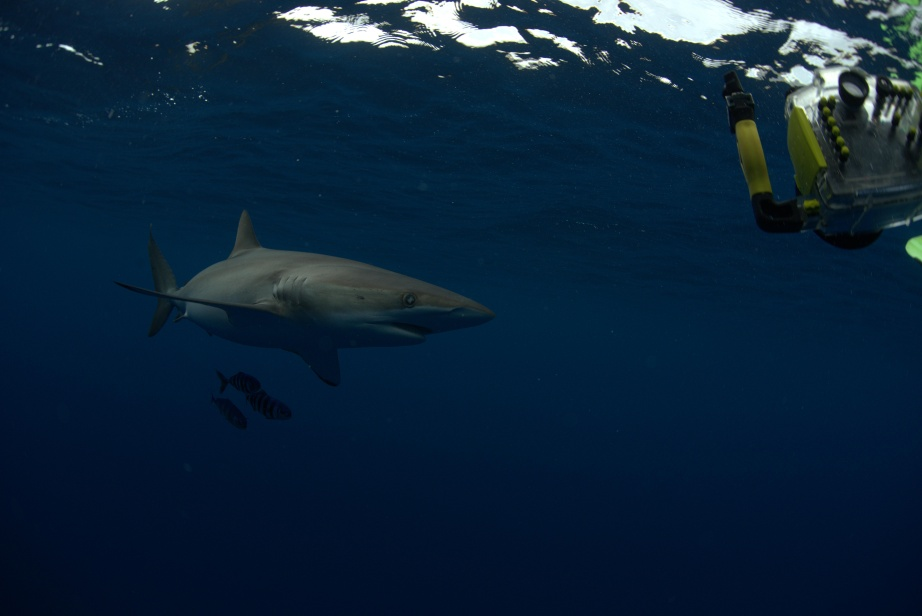Sedoso: (83, 199, 507, 408)
